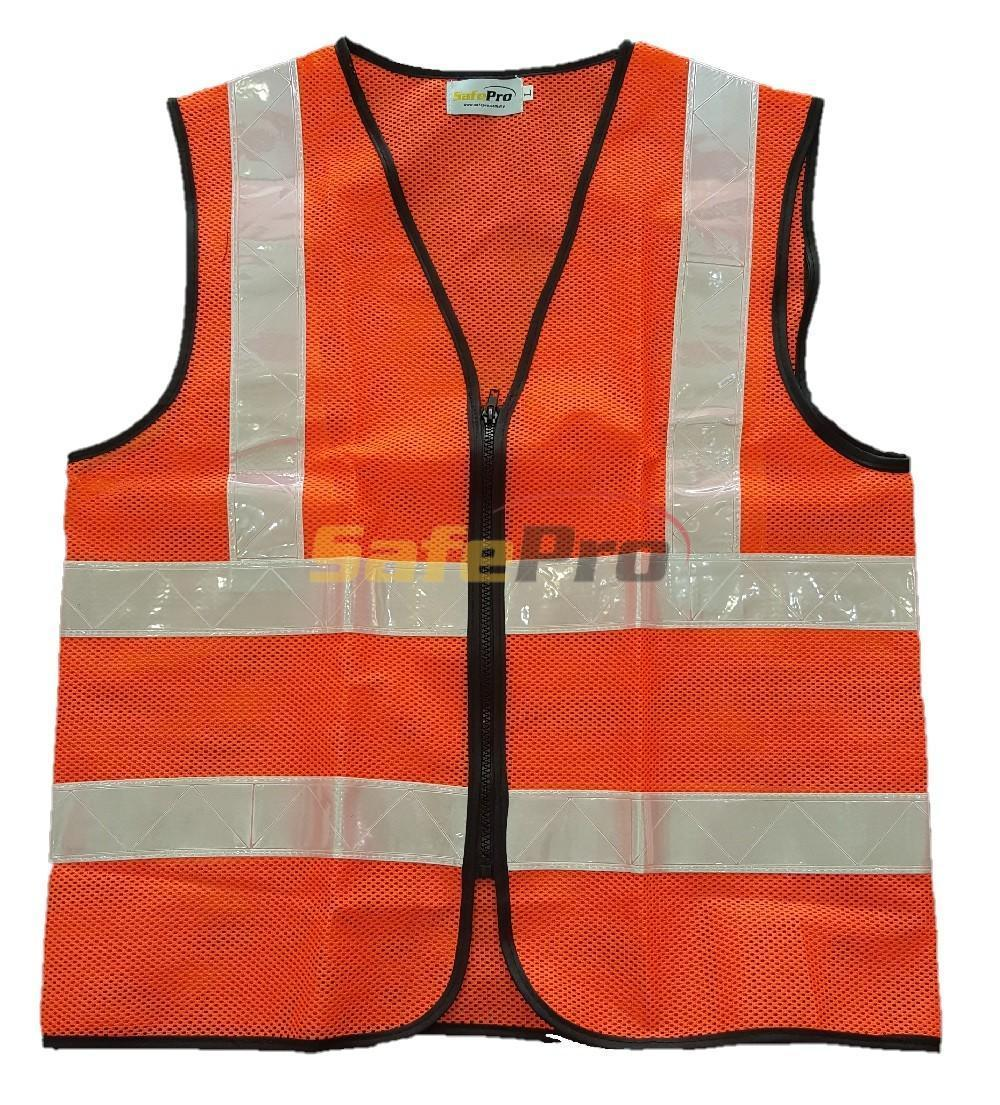vest: (38, 32, 947, 1061)
